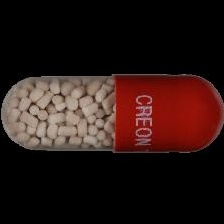17856-1224: (0, 0, 224, 224)
